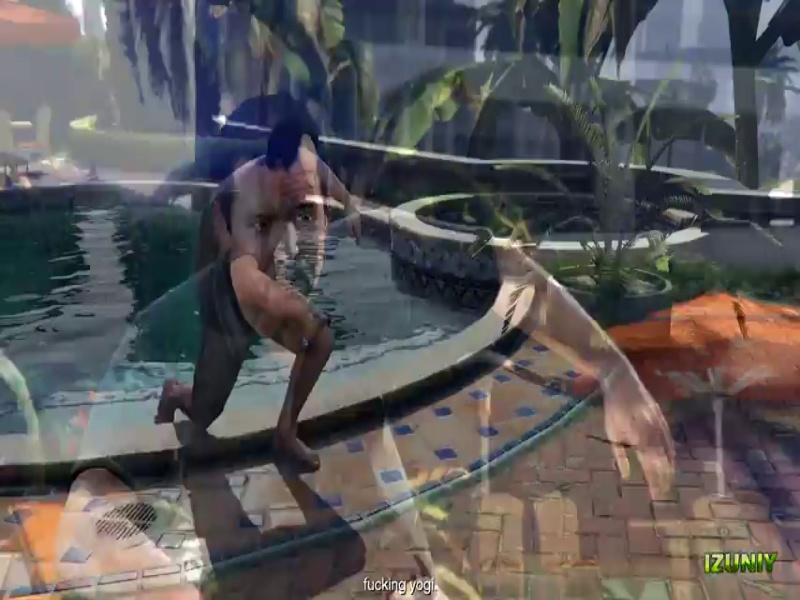human: (152, 117, 347, 477)
